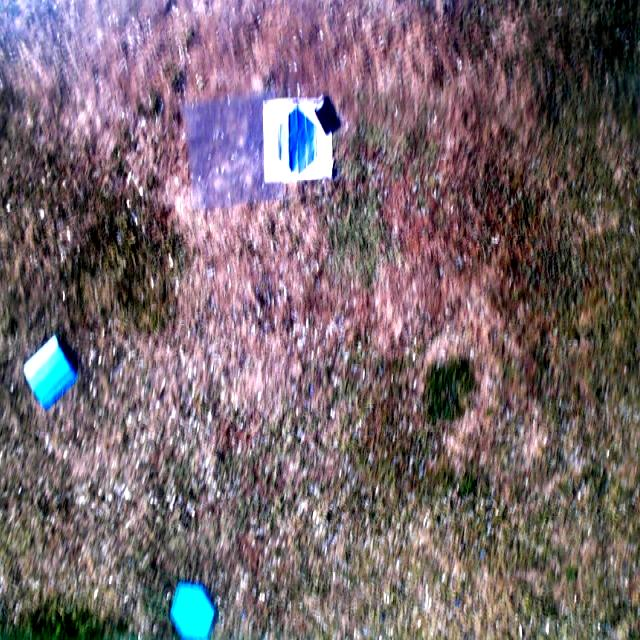blue_hexagon: (171, 583, 216, 640)
blue_square: (23, 335, 74, 409)
